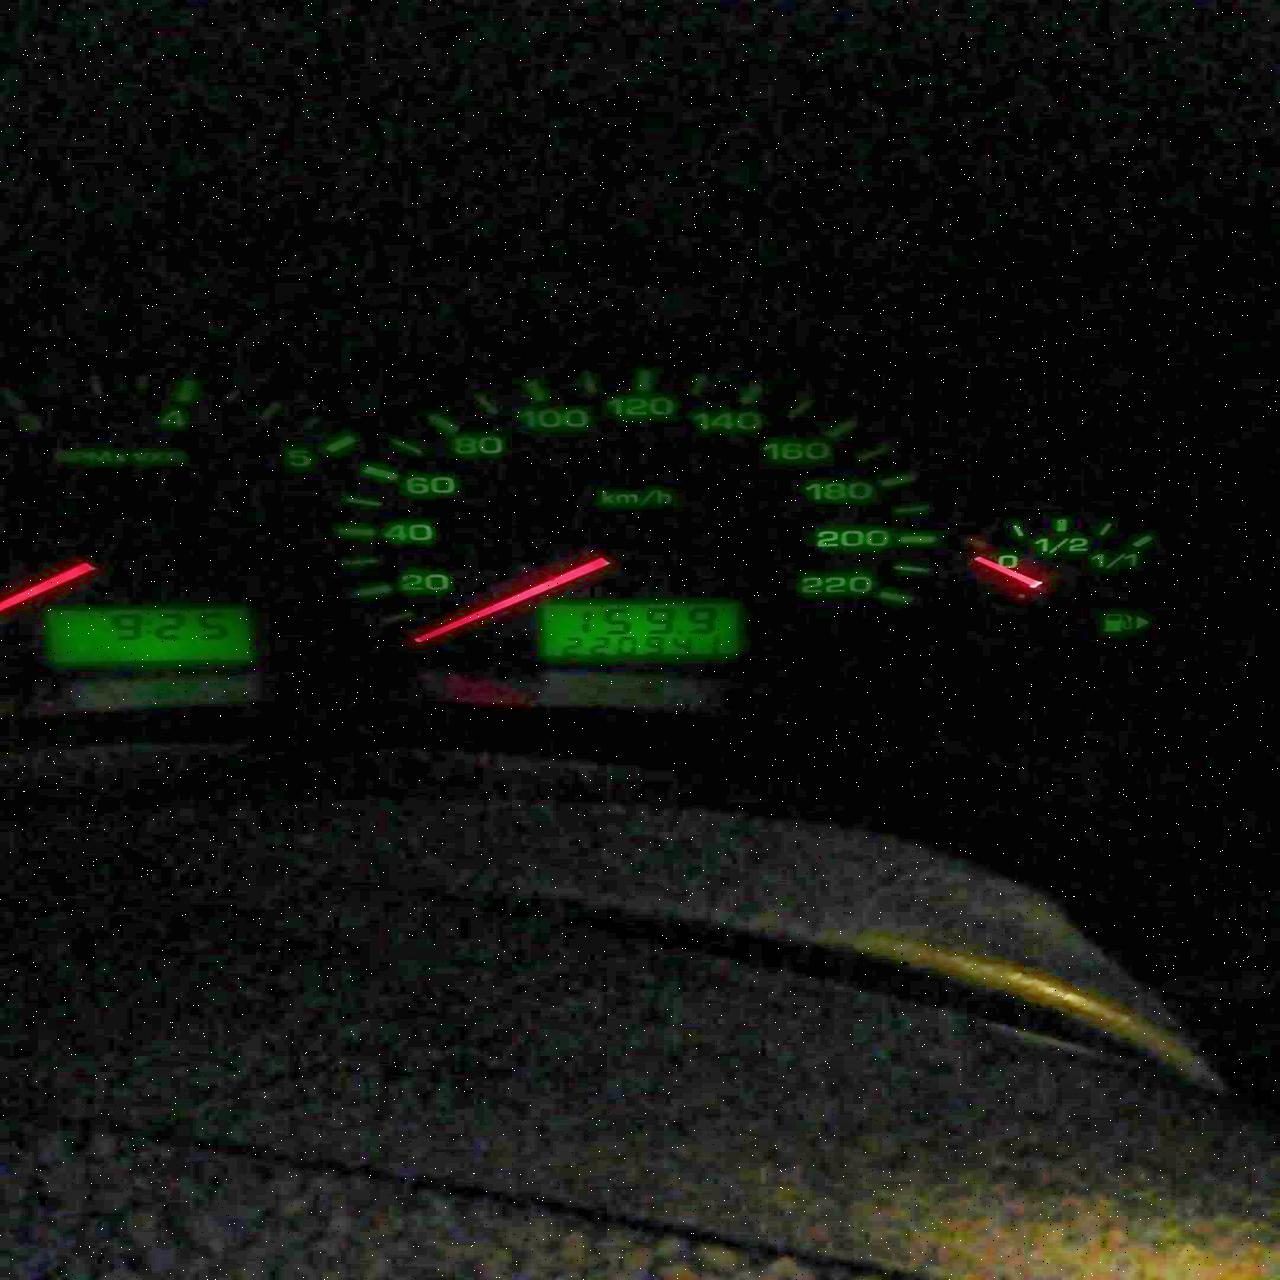-: (674, 628, 682, 634)
0: (615, 635, 638, 655)
1: (579, 610, 592, 633), (708, 636, 721, 654)
2: (560, 635, 583, 655), (587, 635, 608, 655)
4: (670, 636, 693, 653)
5: (601, 607, 629, 635)
9: (685, 606, 716, 633), (644, 607, 674, 634), (642, 636, 663, 655)
odometer: (538, 599, 745, 660)
